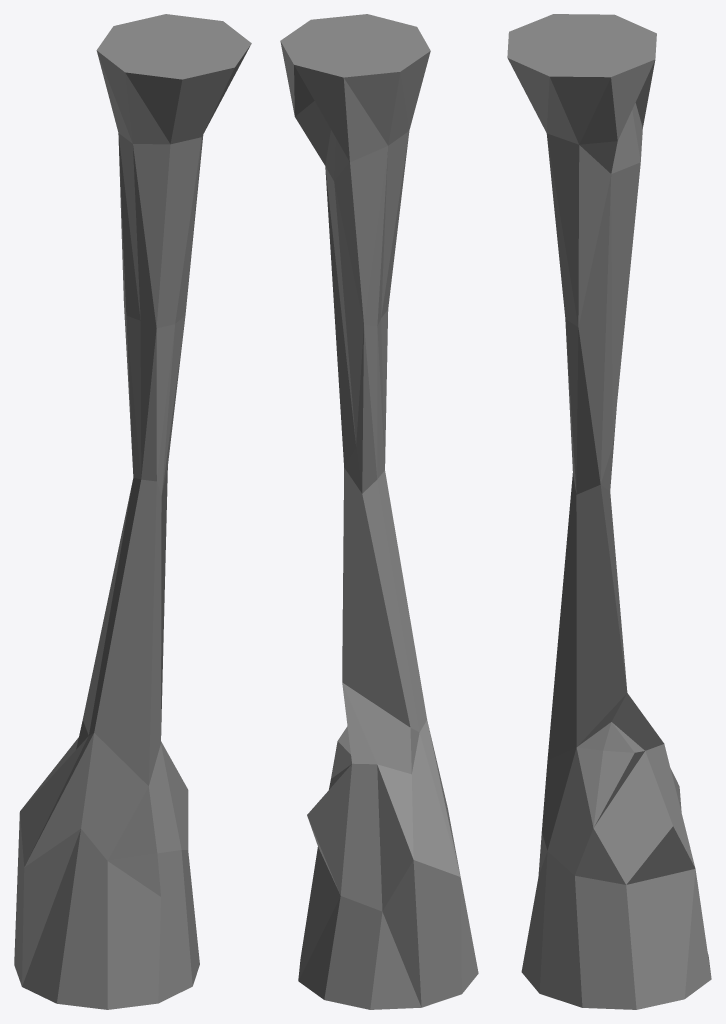
File: Stalactite 7.fbx
3 views of the same model, side by side, from view 1: azimuth 30°, elevation 25°; view 2: azimuth 150°, elevation 25°; view 3: azimuth 270°, elevation 25° (orthographic). The views are drawn at different scales.
Visible parts, largest first — view 1: Stalactite_7; view 2: Stalactite_7; view 3: Stalactite_7.
Part boxes in pixels (x1,y1,x2,y2): Stalactite_7: (14,14,251,1009); Stalactite_7: (280,14,478,1009); Stalactite_7: (507,14,711,1009).
Size of the model in its own units: 219 by 997 by 194.
Materials: 1 (1 with a texture image).
